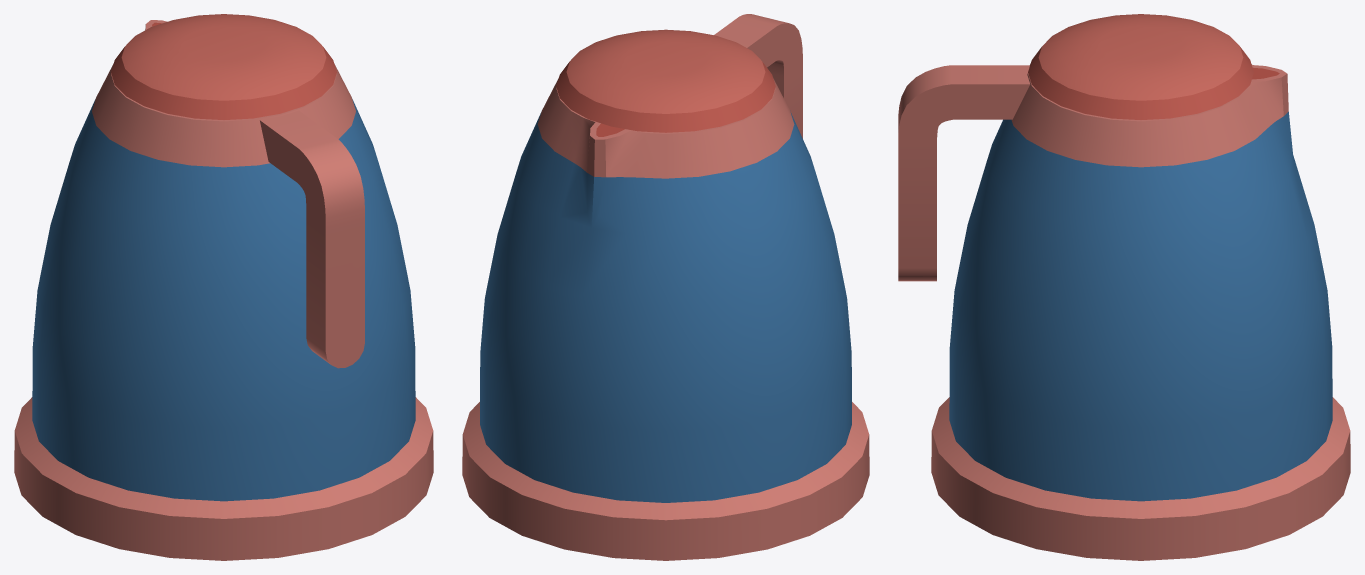
The model's file is Ketle.fbx.
3 renders of one model, left to right at view 1: azimuth 30°, elevation 25°; view 2: azimuth 150°, elevation 25°; view 3: azimuth 270°, elevation 25°, orthographic. The views are drawn at different scales.
Visible parts, largest first — view 1: Ketle.002, Ketle, Ketle.001; view 2: Ketle.002, Ketle, Ketle.001; view 3: Ketle.002, Ketle, Ketle.001.
Boxes of the visible parts, bbox=[...] form: Ketle.002: bbox=[32, 99, 415, 501]; Ketle: bbox=[14, 20, 433, 560]; Ketle.001: bbox=[111, 14, 336, 119]; Ketle.002: bbox=[480, 112, 851, 502]; Ketle: bbox=[462, 14, 869, 560]; Ketle.001: bbox=[556, 29, 775, 132]; Ketle.002: bbox=[949, 111, 1332, 501]; Ketle: bbox=[898, 64, 1350, 560]; Ketle.001: bbox=[1028, 14, 1253, 119].
Bounding box in the file's own units: 0.5988 × 0.6743 × 0.6461.
